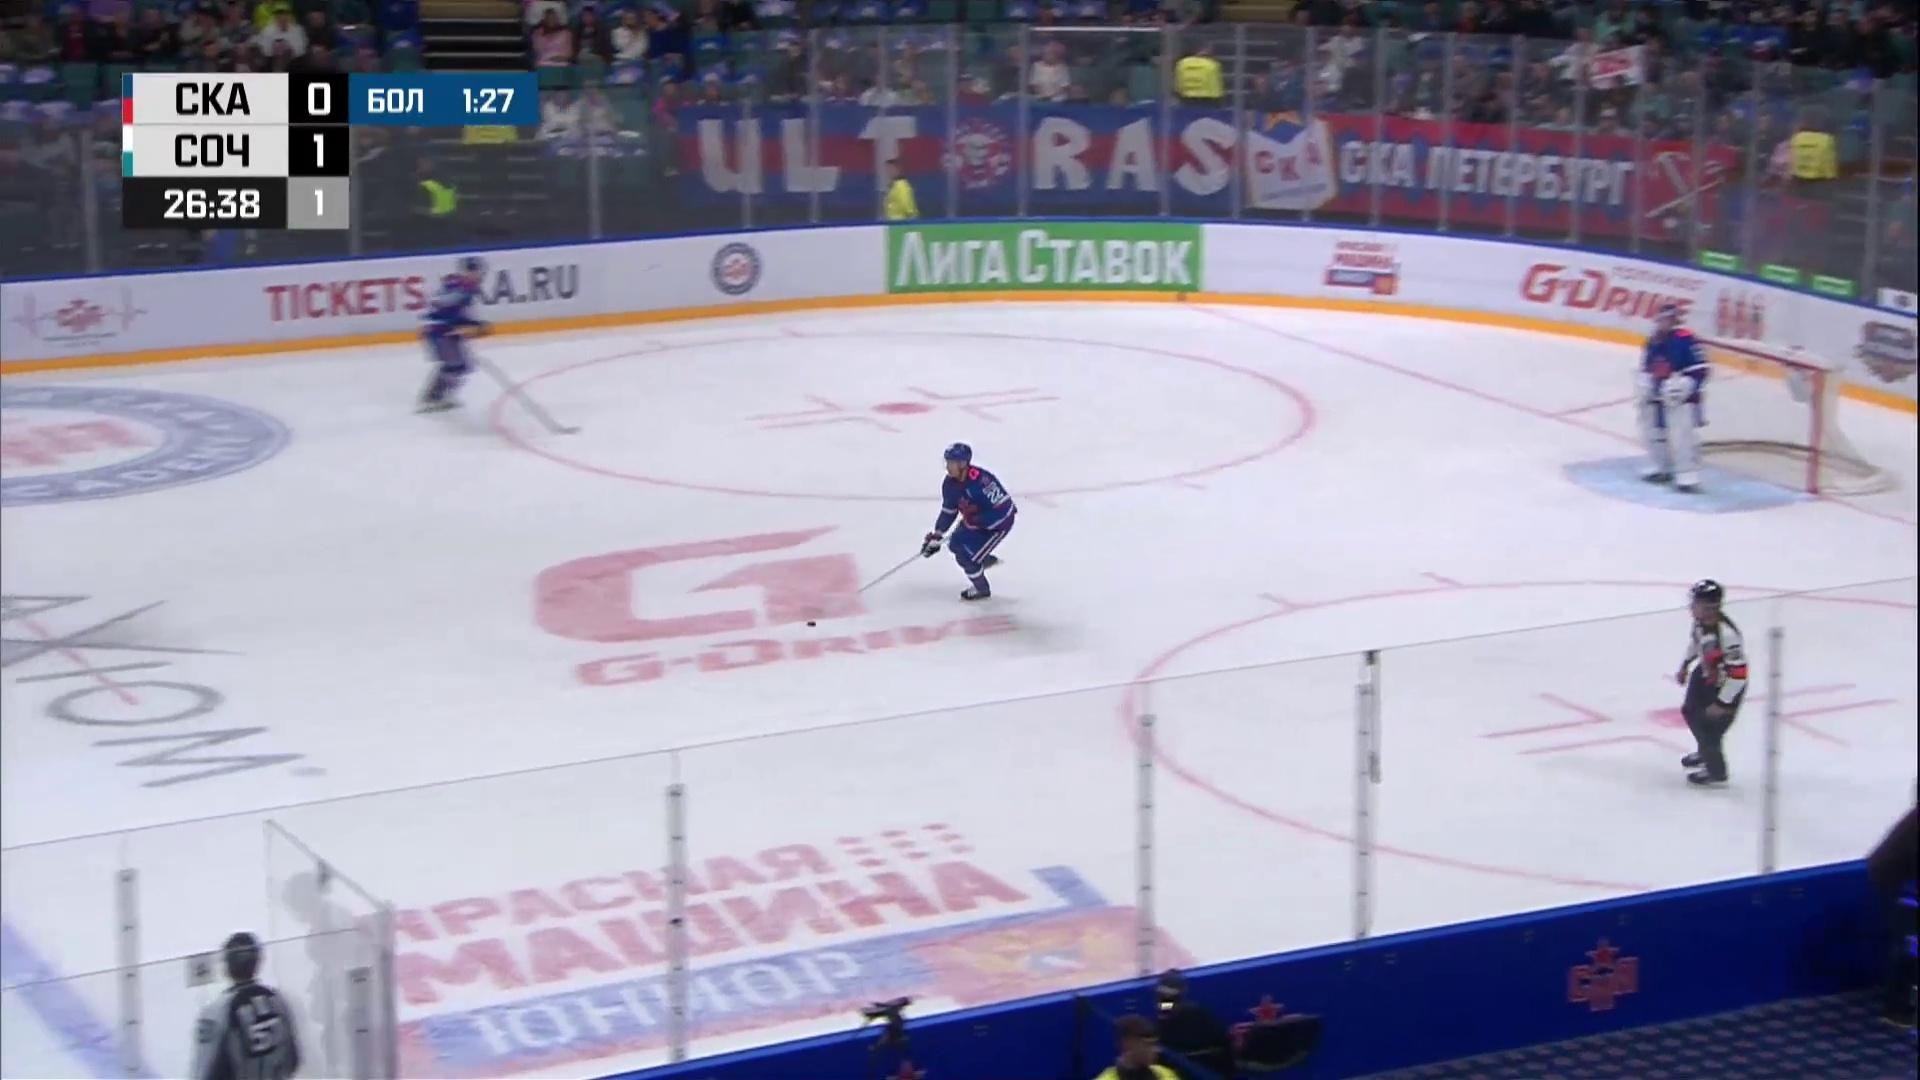ball: (806, 621, 816, 626)
